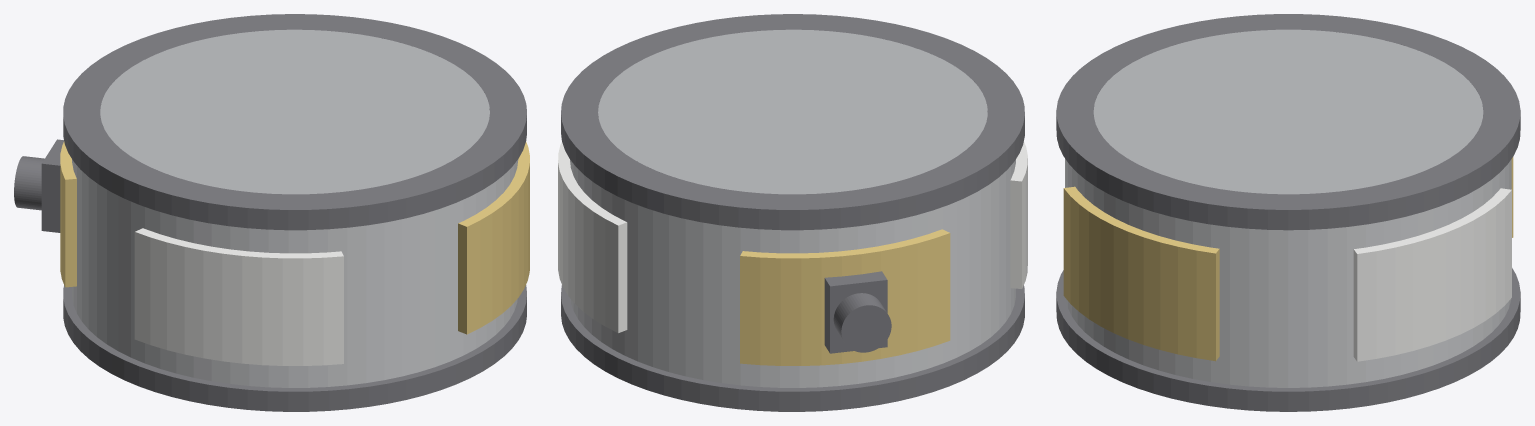
Rendered from cmd00_probe_core.glb.
3 views of the same model, side by side, from view 1: azimuth 30°, elevation 25°; view 2: azimuth 150°, elevation 25°; view 3: azimuth 270°, elevation 25° (orthographic).
Parts seen in each view (by area): view 1: top_deck, stack_flanges, avionics_body, radiator_panels, mli_panels, star_tracker; view 2: top_deck, stack_flanges, avionics_body, mli_panels, radiator_panels, star_tracker; view 3: top_deck, stack_flanges, avionics_body, radiator_panels, mli_panels.
Boxes of the visible parts, x1,y1,x2,y2 form: top_deck: (100, 29, 489, 194); stack_flanges: (63, 14, 526, 411); avionics_body: (72, 159, 518, 387); radiator_panels: (134, 228, 343, 365); mli_panels: (60, 141, 529, 334); star_tracker: (14, 139, 63, 232); top_deck: (598, 29, 987, 194); stack_flanges: (561, 14, 1024, 411); avionics_body: (570, 159, 1015, 387); mli_panels: (740, 229, 950, 365); radiator_panels: (558, 141, 1027, 333); star_tracker: (824, 271, 891, 353); top_deck: (1093, 29, 1483, 194); stack_flanges: (1056, 14, 1520, 411); avionics_body: (1065, 159, 1511, 387); radiator_panels: (1065, 159, 1511, 361); mli_panels: (1063, 157, 1513, 361).
Size of the model in its own units: 0.6247 by 0.3 by 0.6248.
